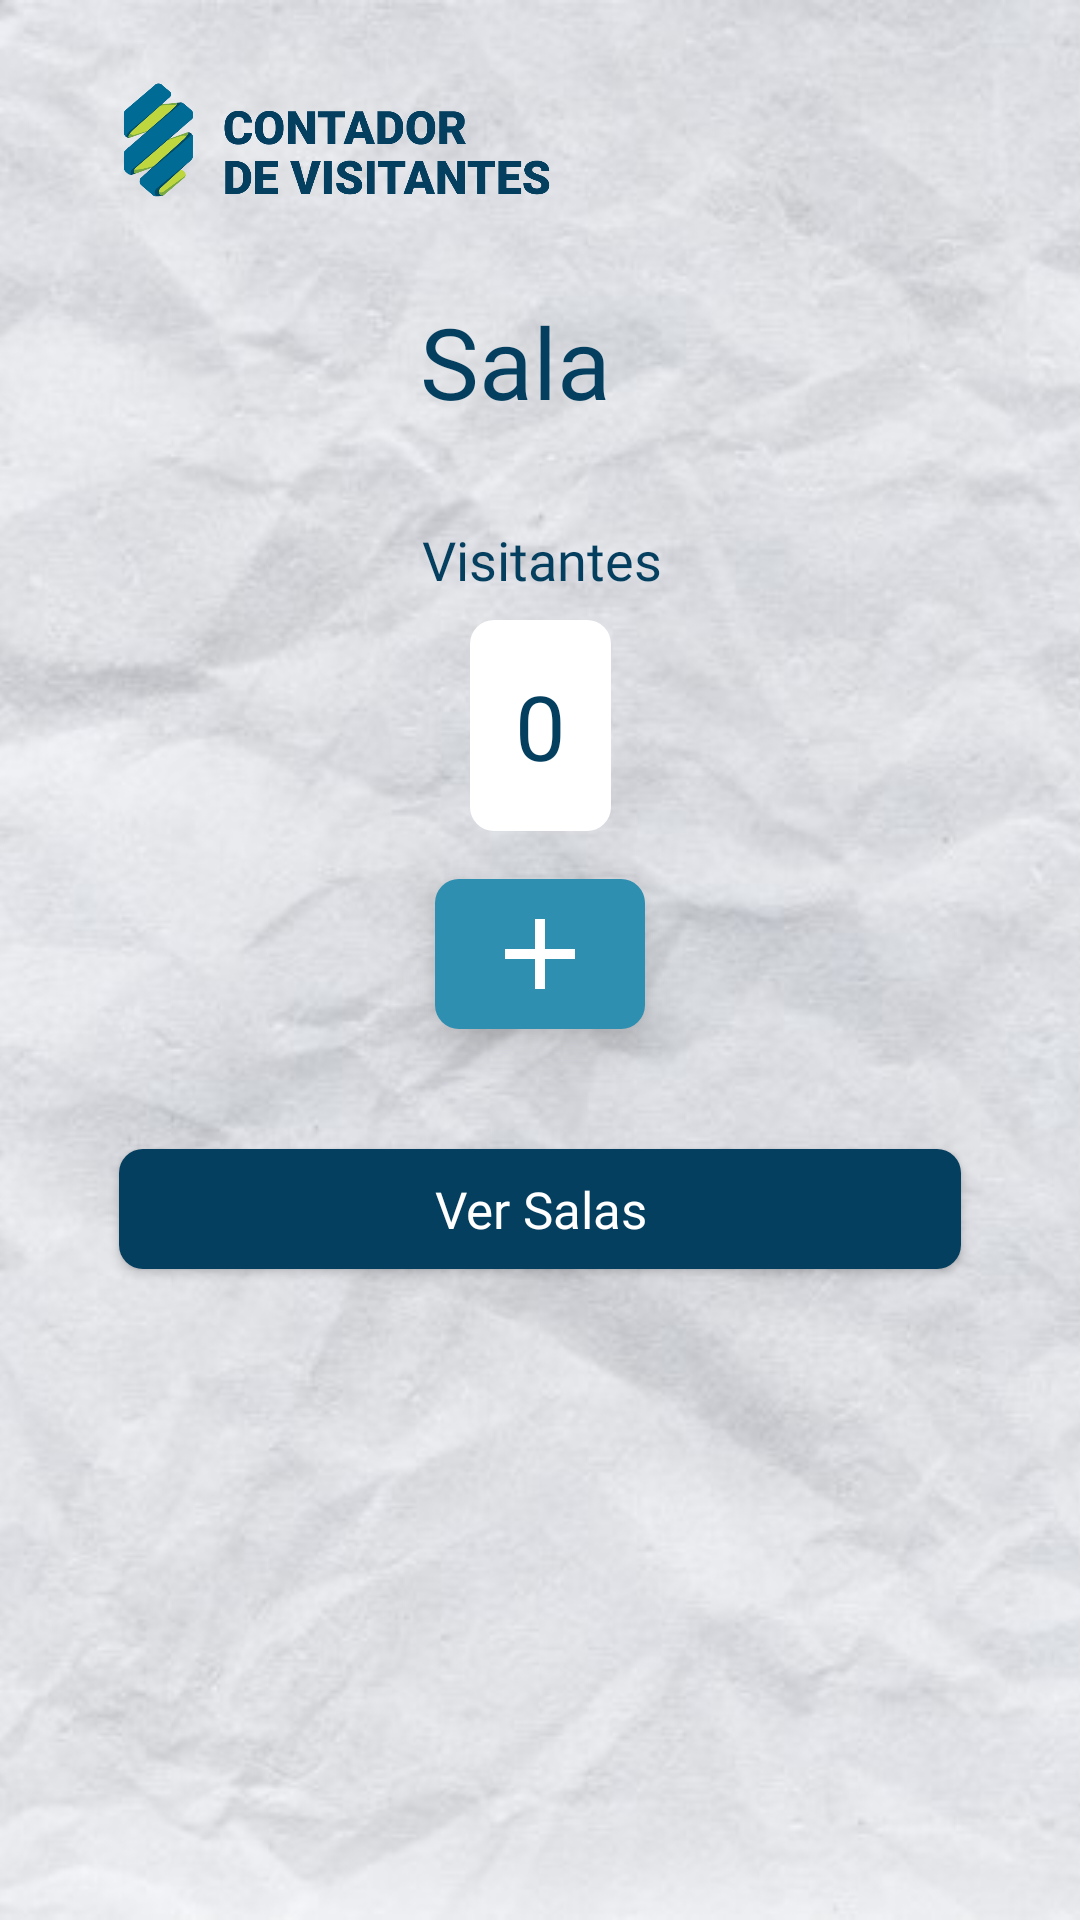

Point at icon controls on the screen. Image size 1080w x 1920h, points as (x=x, y=y).
incrementar: (x=540, y=954)
